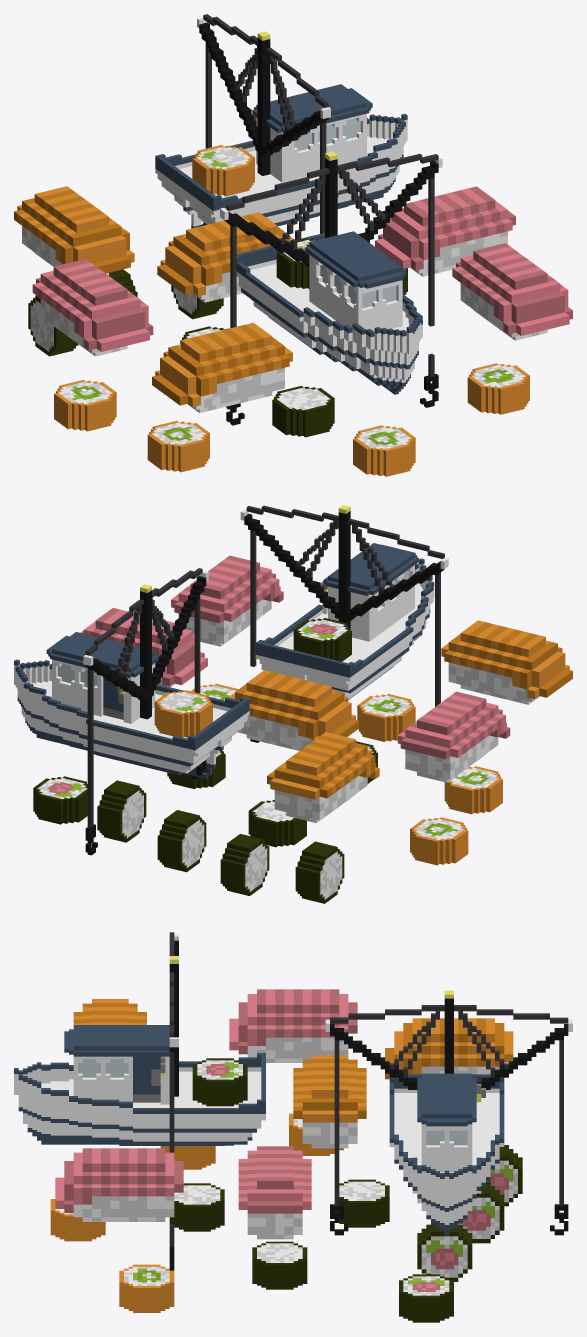
File: sushi-1.obj
The picture shows the model from 3 angles, top to bottom: view 1: azimuth 30°, elevation 25°; view 2: azimuth 150°, elevation 25°; view 3: azimuth 270°, elevation 25°; orthographic projection. The views are drawn at different scales.
Visible parts, largest first — view 1: sushi-1; view 2: sushi-1; view 3: sushi-1.
Boxes of the visible parts, left/top/right/bottom form: sushi-1: left=14, top=14, right=572, bottom=476; sushi-1: left=14, top=505, right=572, bottom=903; sushi-1: left=14, top=932, right=572, bottom=1322.
Size of the model in its own units: 107 by 65 by 122.
Materials: 1 (1 with a texture image).
